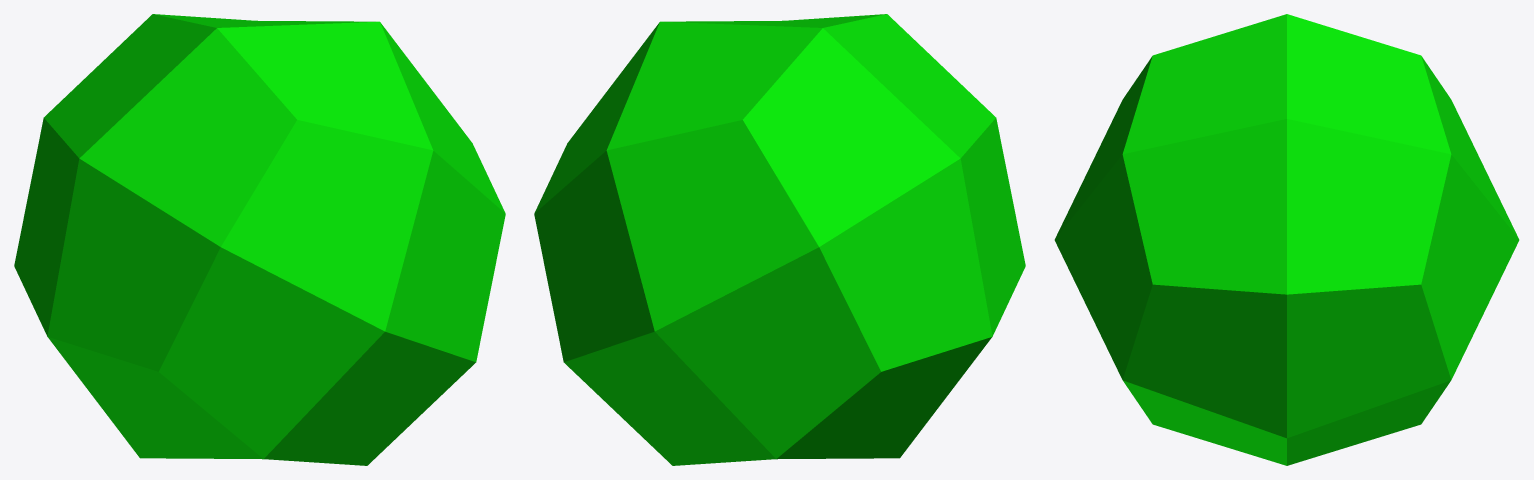
Rendered from coconut 1.fbx.
The picture shows the model from 3 angles, left to right: view 1: azimuth 30°, elevation 25°; view 2: azimuth 150°, elevation 25°; view 3: azimuth 270°, elevation 25°; orthographic projection. The views are drawn at different scales.
Parts seen in each view (by area): view 1: Coconut_4; view 2: Coconut_4; view 3: Coconut_4.
Part boxes in pixels (bbox=[...]): Coconut_4: bbox=[14, 14, 505, 465]; Coconut_4: bbox=[534, 14, 1025, 465]; Coconut_4: bbox=[1054, 14, 1519, 465].
Size of the model in its own units: 0.6502 by 0.6502 by 0.6633.
